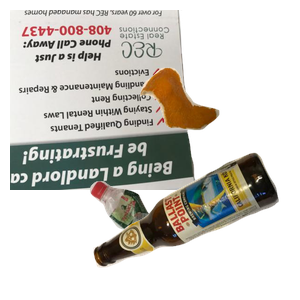glass: (91, 150, 300, 300)
paper: (10, 10, 201, 190)
plastic: (87, 178, 234, 300)
trash: (137, 65, 300, 188)
